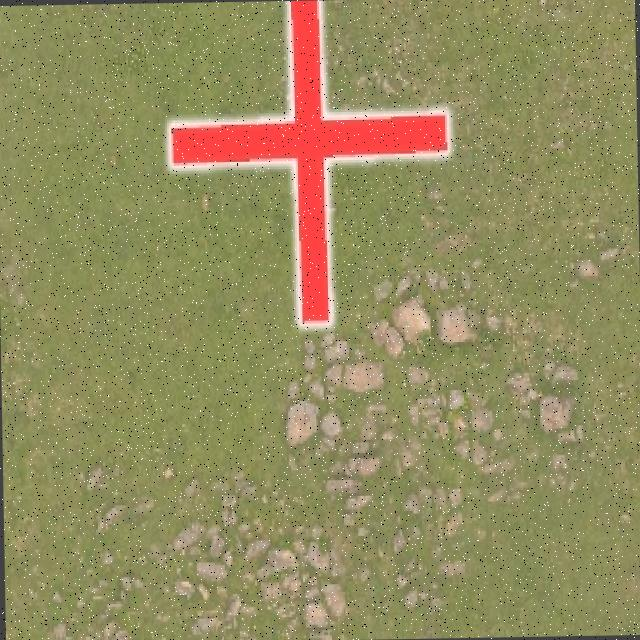x_marker: (167, 0, 449, 325)
